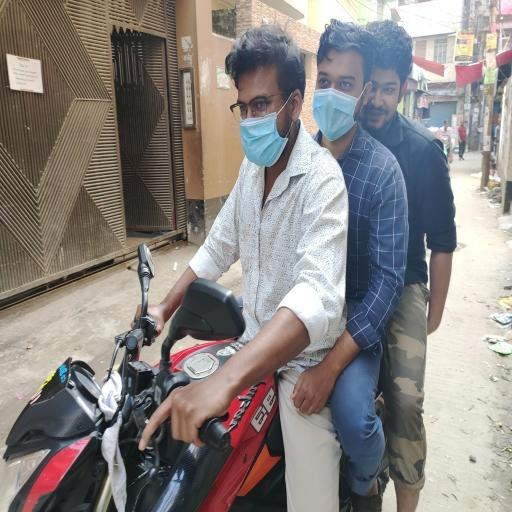no helmet: (227, 37, 325, 211)
triple riding: (9, 27, 482, 512)
